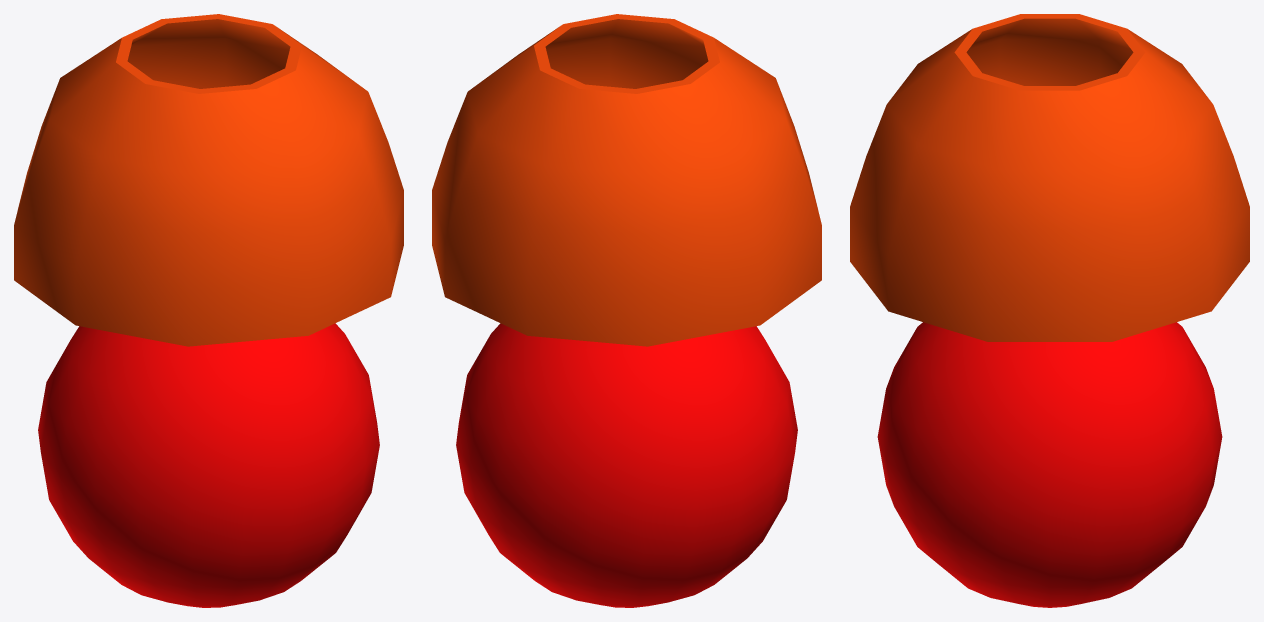
The model's file is Lampe.FBX.
The picture shows the model from 3 angles, left to right: view 1: azimuth 30°, elevation 25°; view 2: azimuth 150°, elevation 25°; view 3: azimuth 270°, elevation 25°; orthographic projection.
Visible parts, largest first — view 1: Lampe001; view 2: Lampe001; view 3: Lampe001.
Part boxes in pixels (x1,y1,x2,y2): Lampe001: (14,14,403,607); Lampe001: (432,14,821,607); Lampe001: (850,14,1249,607).
Size of the model in its own units: 22.06 by 34.62 by 23.19.
